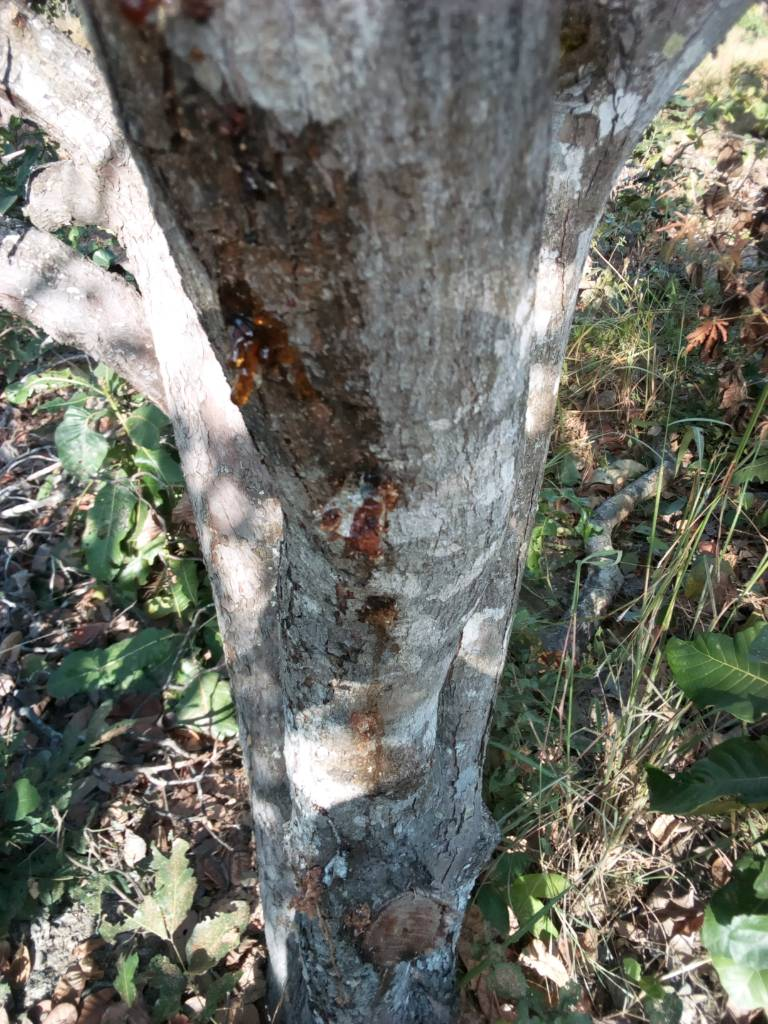Apate terebrans: (186, 263, 382, 433)
